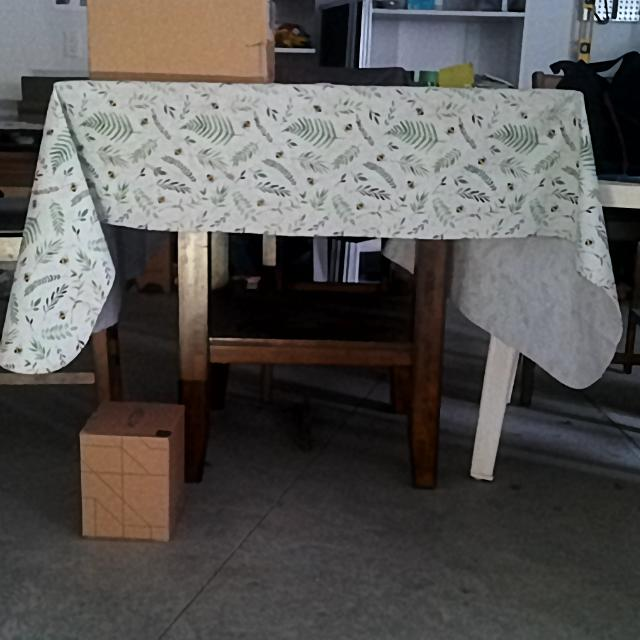box: (86, 0, 269, 82), (81, 435, 168, 539)
